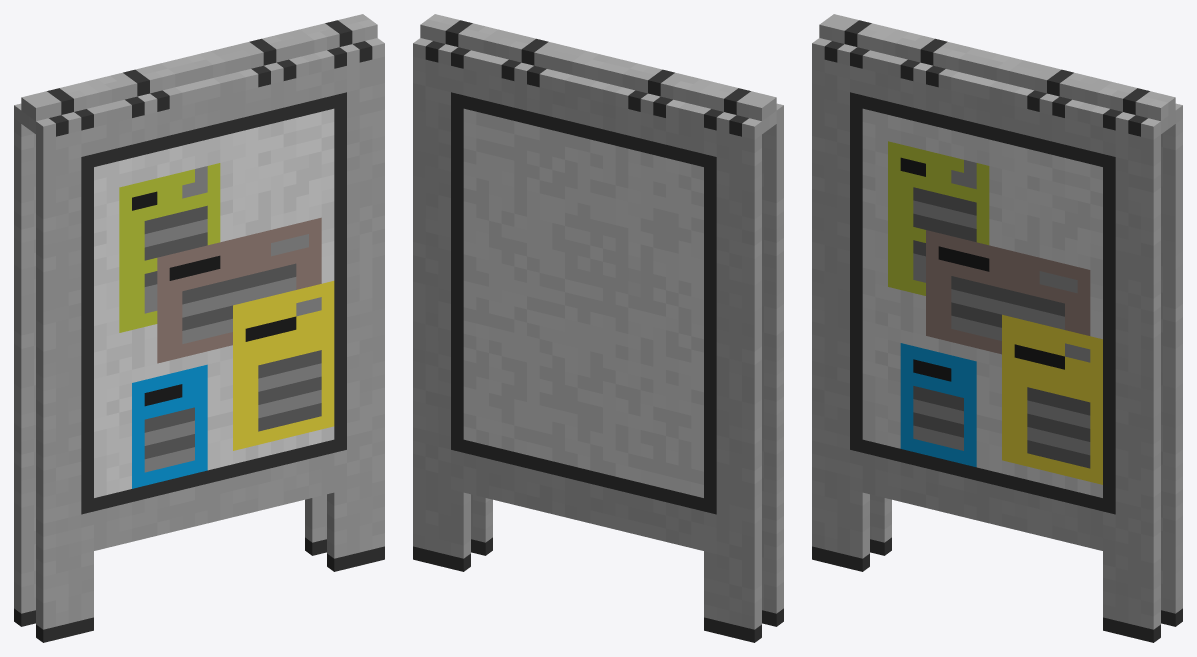
Rendered from PanelSuelo.obj.
The picture shows the model from 3 angles, left to right: view 1: azimuth 30°, elevation 25°; view 2: azimuth 150°, elevation 25°; view 3: azimuth 330°, elevation 25°; orthographic projection.
Bounding box in the file's own units: 2.7 × 4 × 0.4.
1 material, 1 textured.
